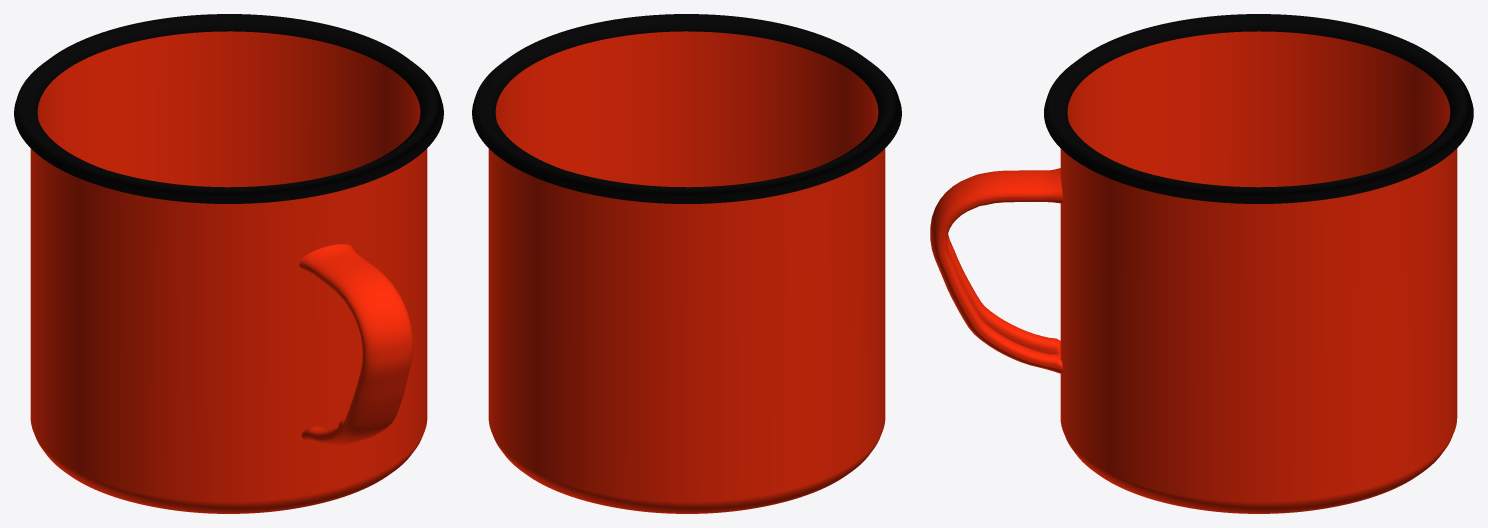
File: CoffeeMug.dae
3 views of the same model, side by side, from view 1: azimuth 30°, elevation 25°; view 2: azimuth 150°, elevation 25°; view 3: azimuth 270°, elevation 25° (orthographic).
Parts seen in each view (by area): view 1: Krujka; view 2: Krujka; view 3: Krujka.
Boxes of the visible parts, x1,y1,x2,y2 form: Krujka: (14,14,443,513); Krujka: (472,14,901,513); Krujka: (930,14,1473,513).
Bounding box in the file's own units: 0.0921 × 0.08 × 0.1165.
